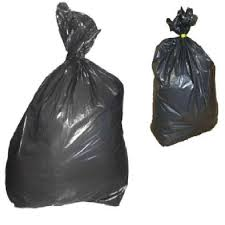Trash: (4, 1, 138, 210)
